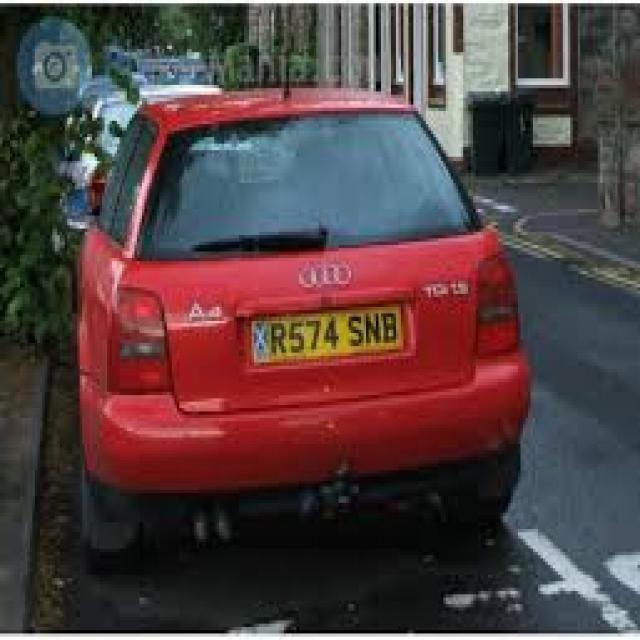Number-Plate: (253, 304, 402, 363)
